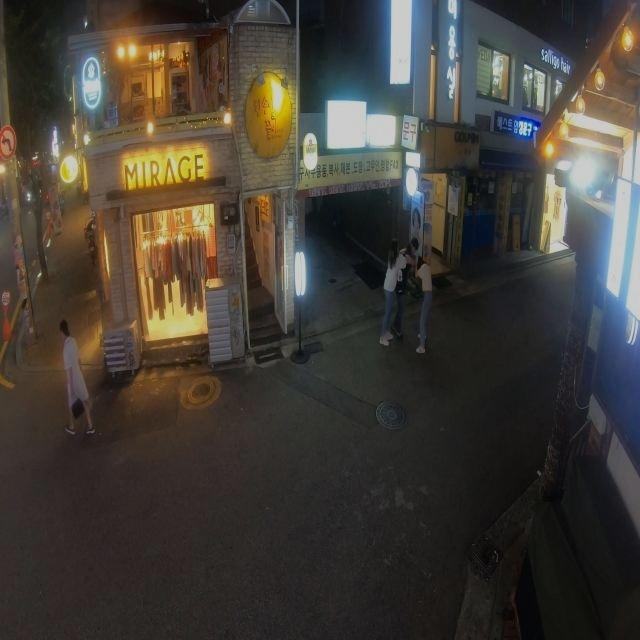fight: (377, 237, 437, 352)
non-fight: (58, 318, 94, 435)
